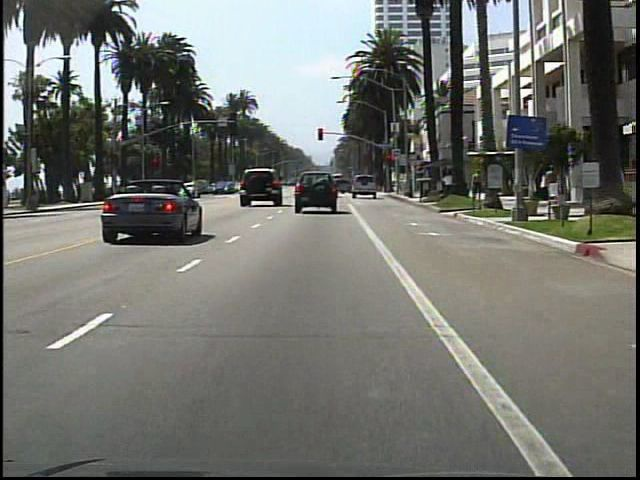person: (542, 160, 562, 210), (471, 165, 485, 206), (439, 169, 457, 199)
